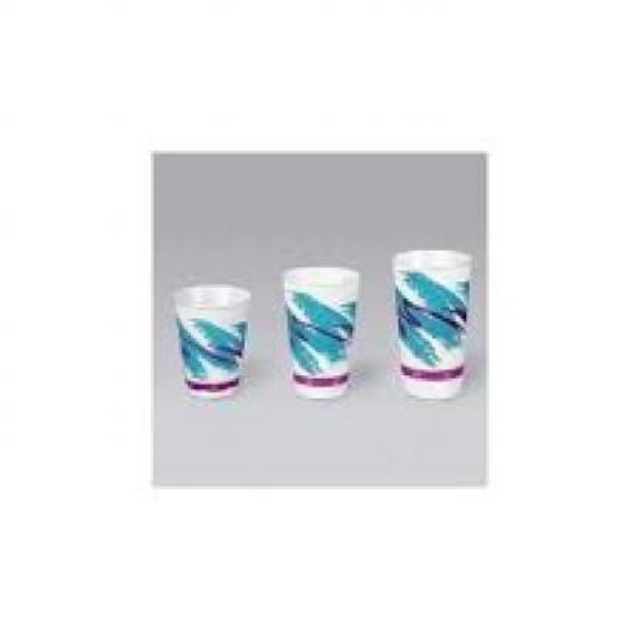trash: (394, 251, 471, 397), (283, 268, 358, 397), (174, 285, 249, 397)
